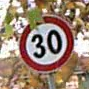limite 30: (19, 14, 72, 72)
